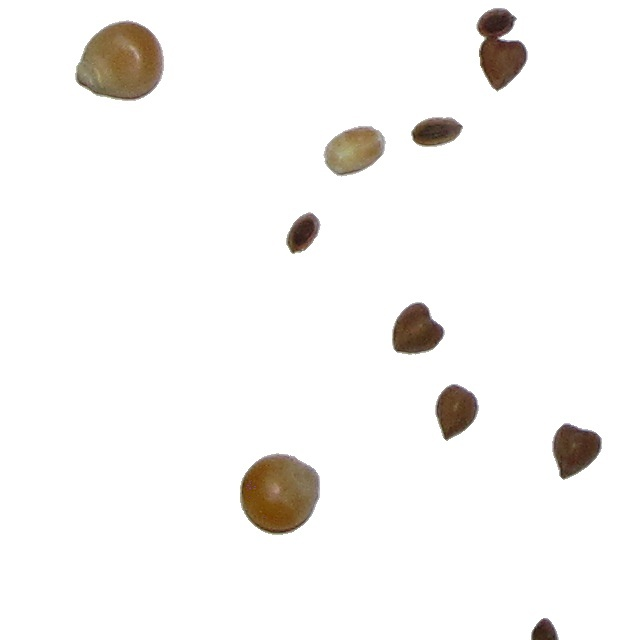buckwheat: (475, 35, 530, 93), (554, 422, 606, 481), (391, 301, 446, 356), (434, 383, 480, 442), (285, 211, 322, 255), (479, 3, 518, 36), (527, 617, 564, 640)
mais: (74, 19, 165, 102), (239, 452, 321, 536), (322, 125, 387, 178), (410, 116, 464, 148)
